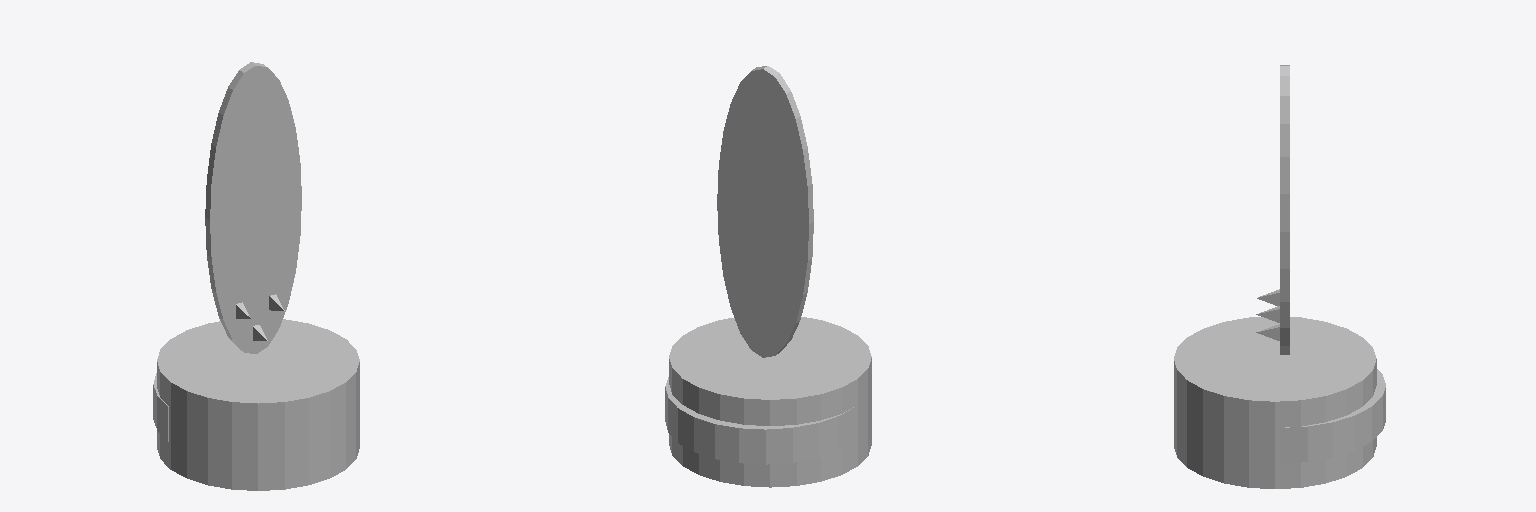
File: SurfTrophy.obj
3 renders of one model, left to right at view 1: azimuth 30°, elevation 25°; view 2: azimuth 150°, elevation 25°; view 3: azimuth 270°, elevation 25°, orthographic.
Parts seen in each view (by area): view 1: cylinder_full_110, cylinder_full_155, cylinder_half_111; view 2: cylinder_full_155, cylinder_full_110, cylinder_half_111; view 3: cylinder_full_110, cylinder_half_111, cylinder_full_155.
Boxes of the visible parts, box(x1,y1,x2,y2) form: cylinder_full_110: box(157, 319, 359, 490); cylinder_full_155: box(205, 62, 301, 353); cylinder_half_111: box(153, 373, 168, 441); cylinder_full_155: box(717, 66, 813, 357); cylinder_full_110: box(669, 317, 871, 487); cylinder_half_111: box(665, 377, 855, 464); cylinder_full_110: box(1174, 317, 1376, 488); cylinder_half_111: box(1280, 369, 1385, 462); cylinder_full_155: box(1280, 65, 1289, 354).
Bounding box in the file's own units: 2.1 × 4.35 × 2.2.